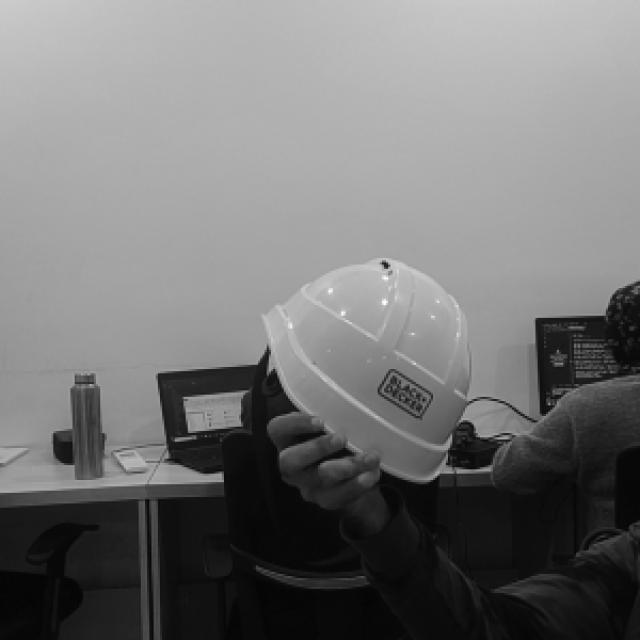safety_helmet: (263, 259, 472, 483)
